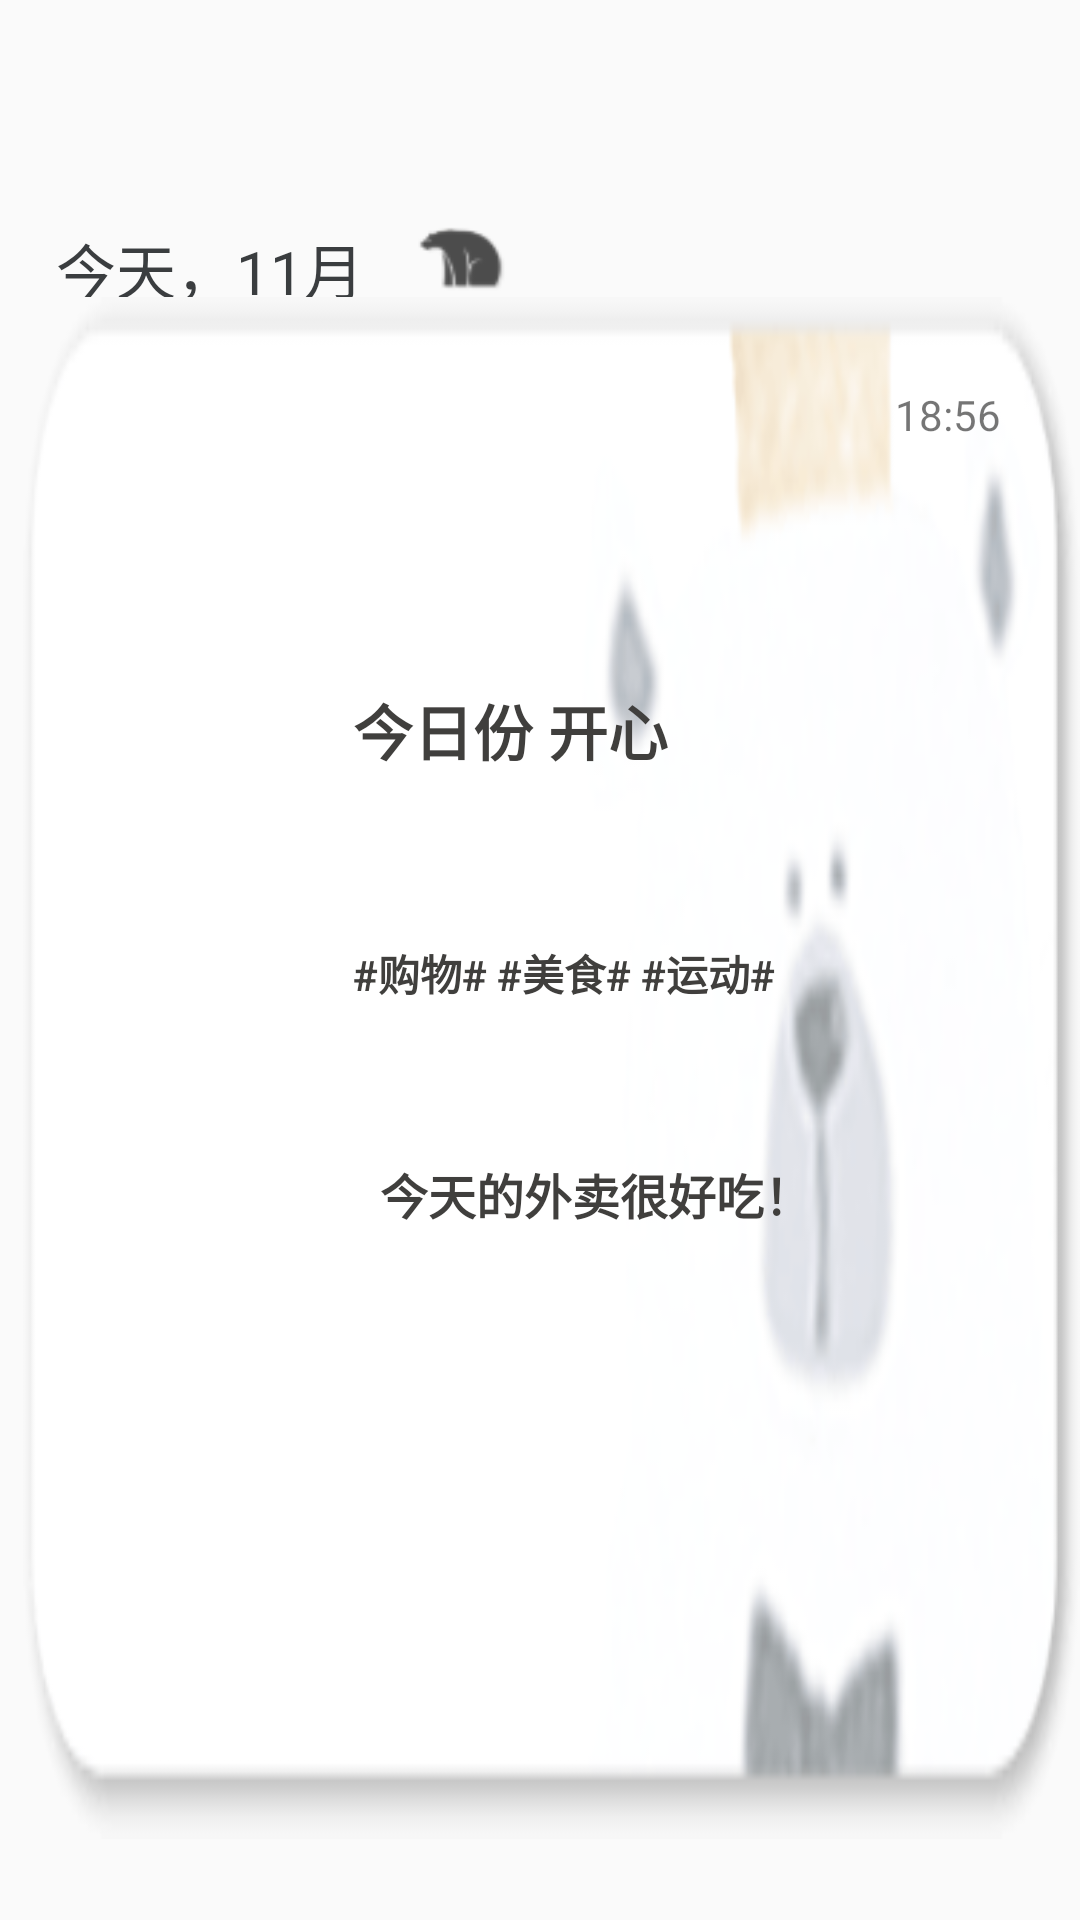

Named icons in this screenshot (1080*1920) and their bounding boxes, (x1, y1, x2, y2):
seabear return: (420, 228, 502, 288)
